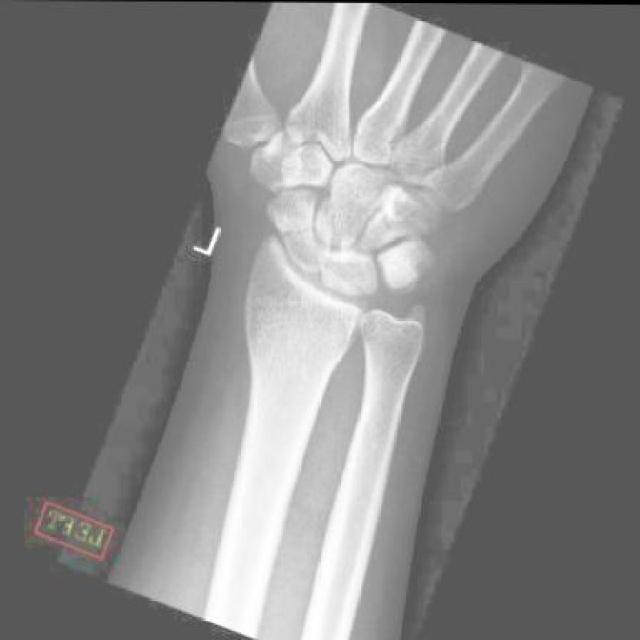Fracture: (275, 199, 323, 250)
